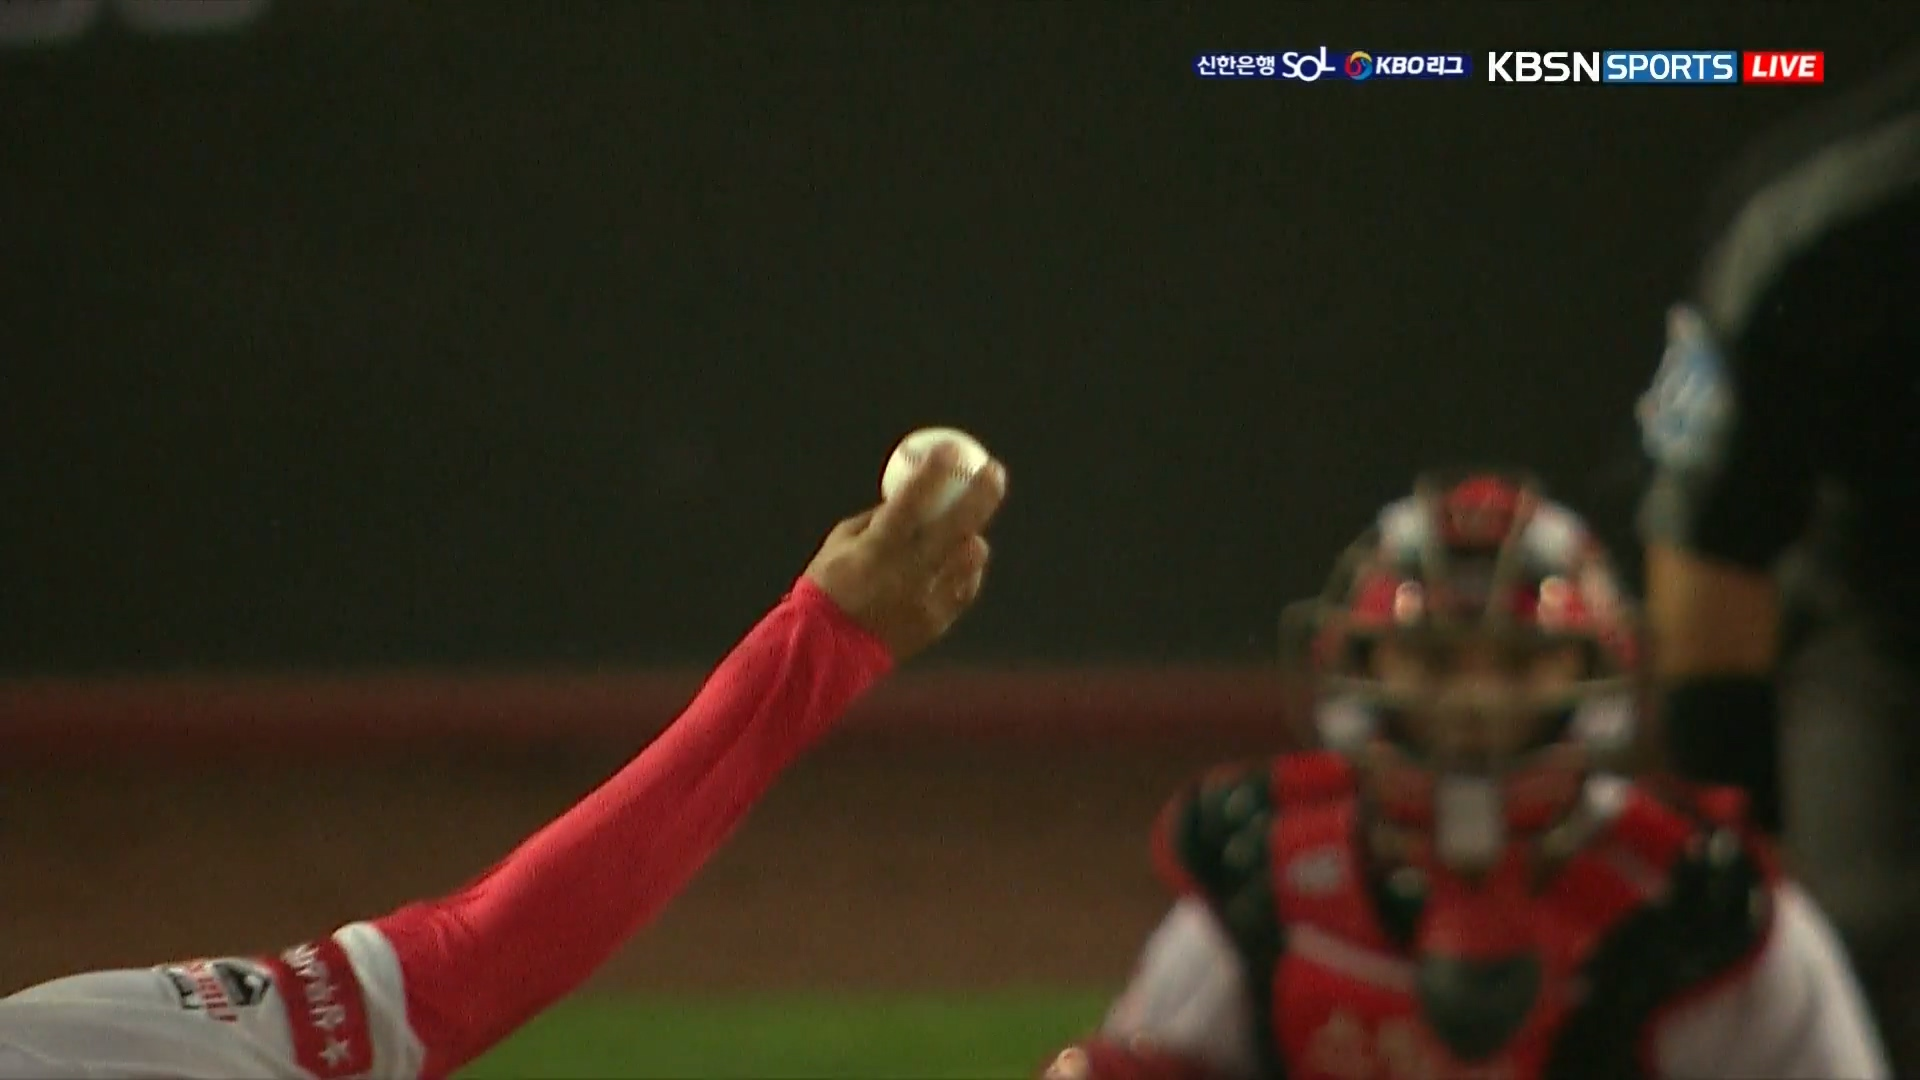zoomin_hand: (465, 419, 1019, 1063)
